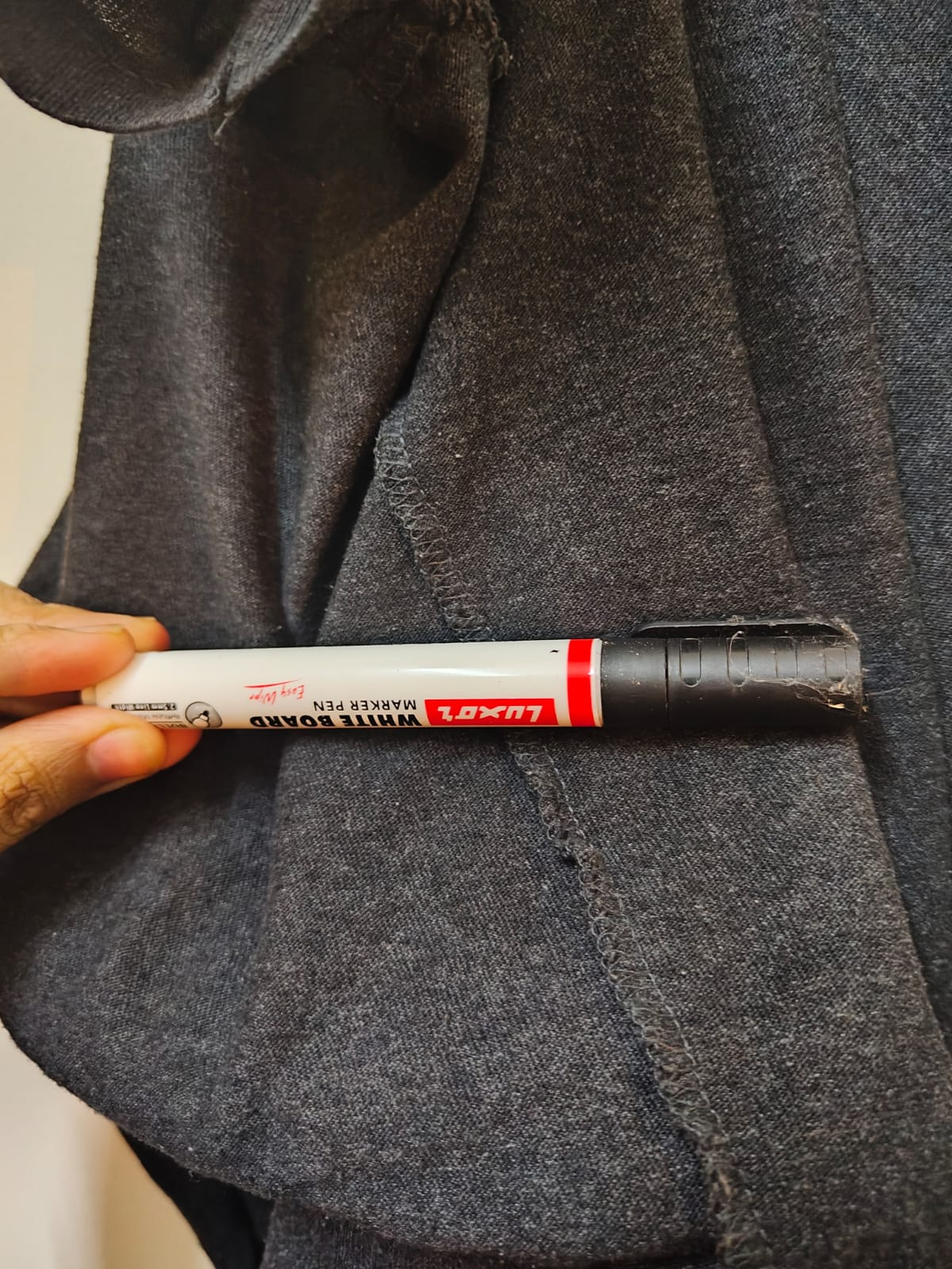case: (80, 601, 926, 763)
